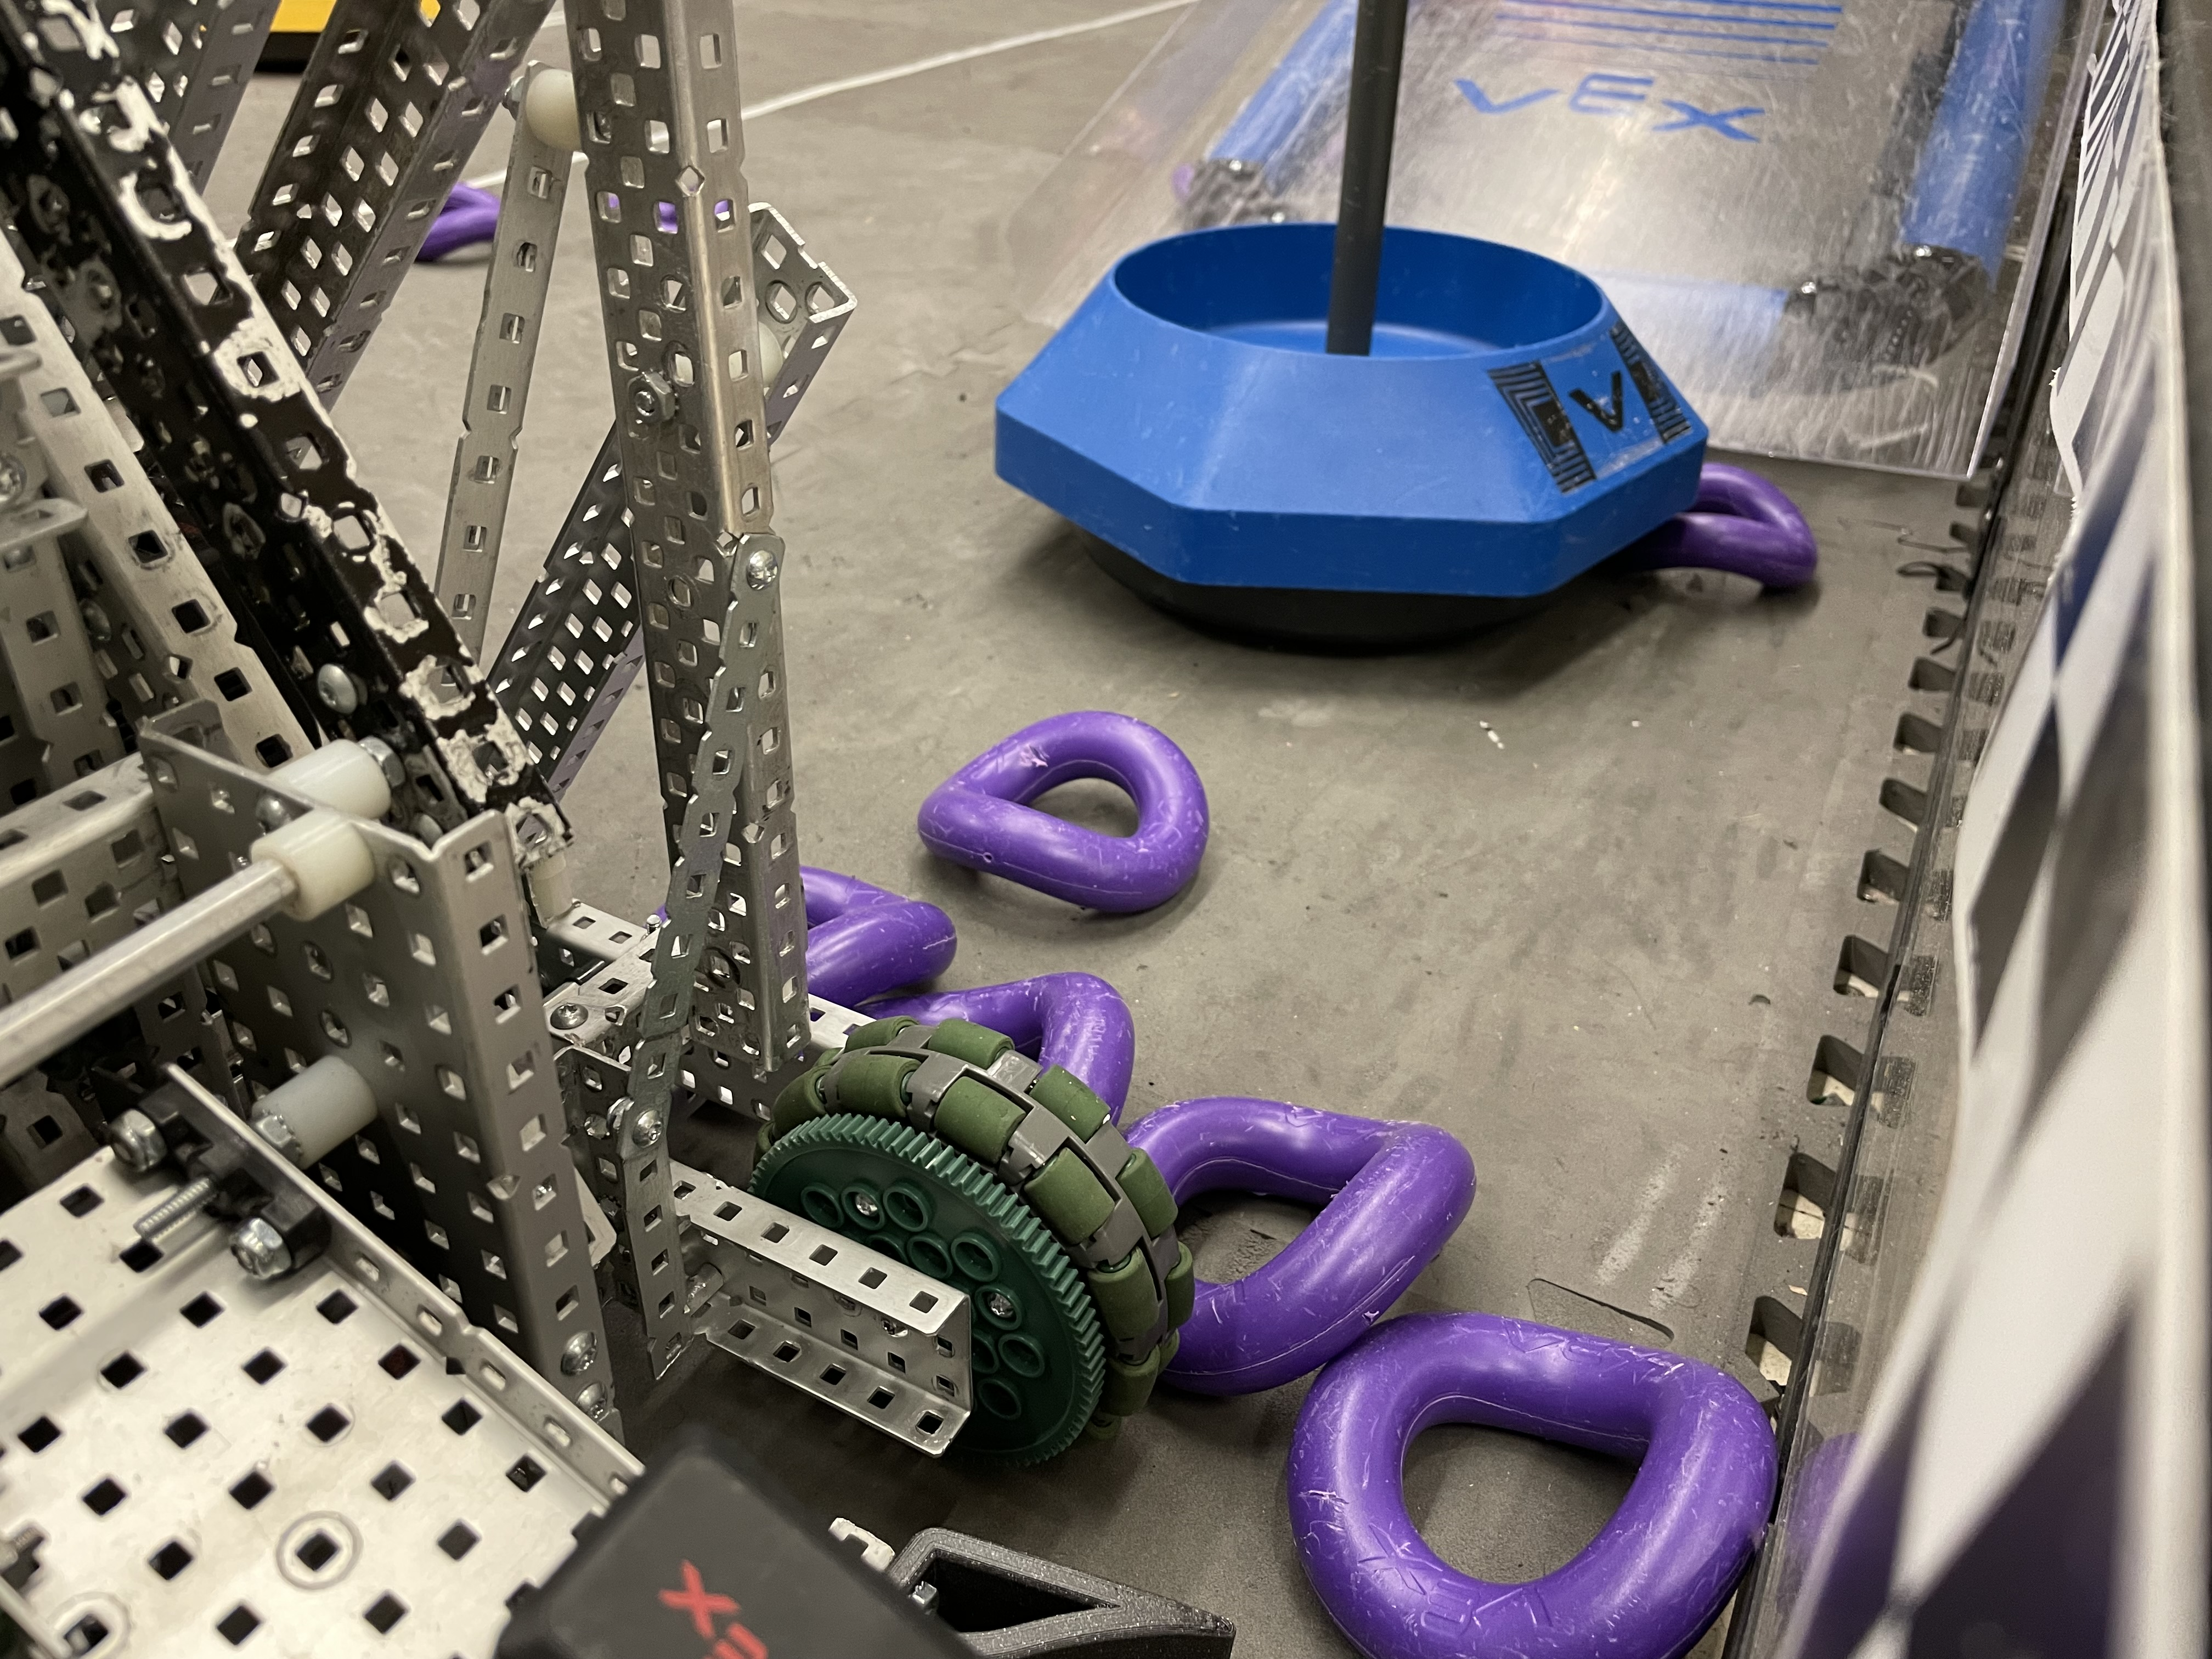ring: (1291, 1291, 1792, 1657), (1096, 1100, 1474, 1396), (824, 969, 1136, 1175), (911, 708, 1207, 920), (655, 856, 954, 1002), (1594, 453, 1824, 598), (368, 176, 516, 263)
